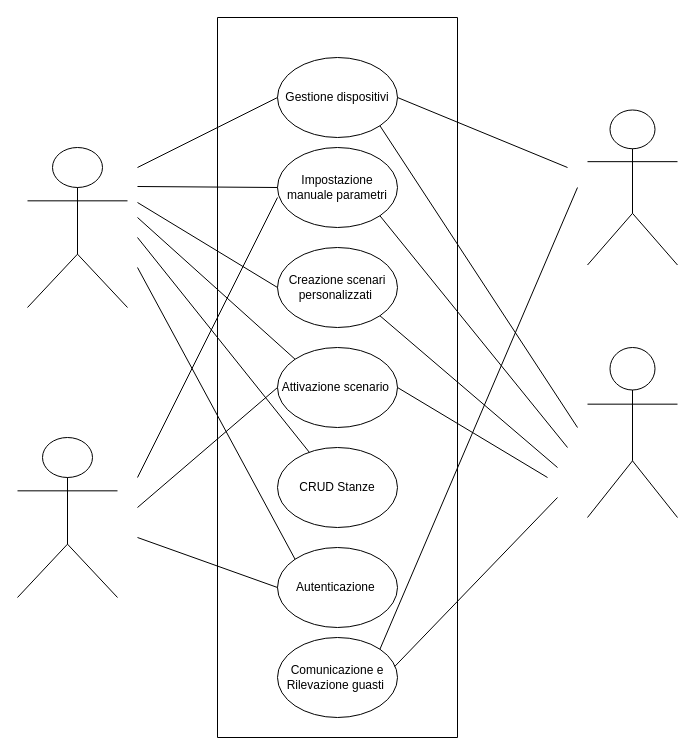
This 695x756 diagram has some shape labels left out. The centre of each missing label's shape, as x and y in pixels:
Attuatori: (x=632, y=432)
Sensori: (x=632, y=187)
Utente 1°livello: (x=77, y=227)
Utente 2°livello: (x=67, y=517)
